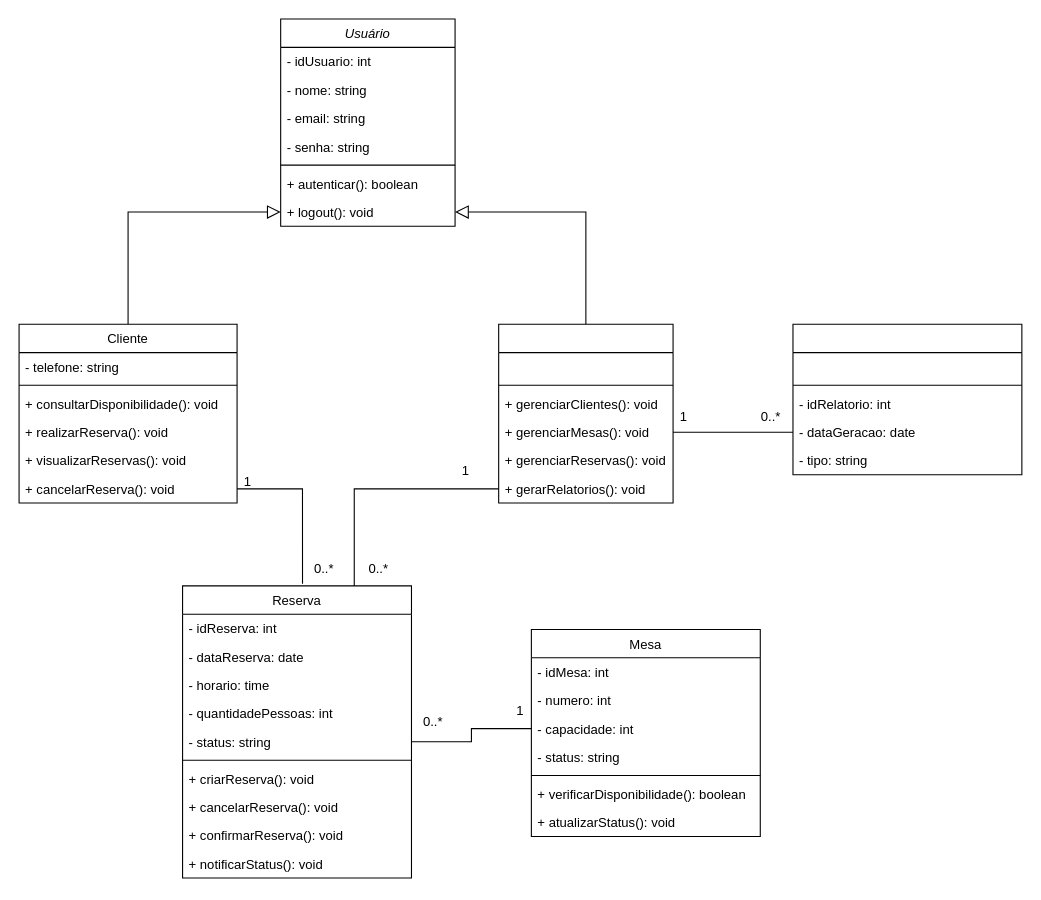
This 1041x900 diagram has some shape labels left out. The box of each missing label's shape, as (x1, y1, x2, y2) in pixels:
Administrador: (498, 323, 673, 503)
Relatório: (792, 323, 1022, 475)
